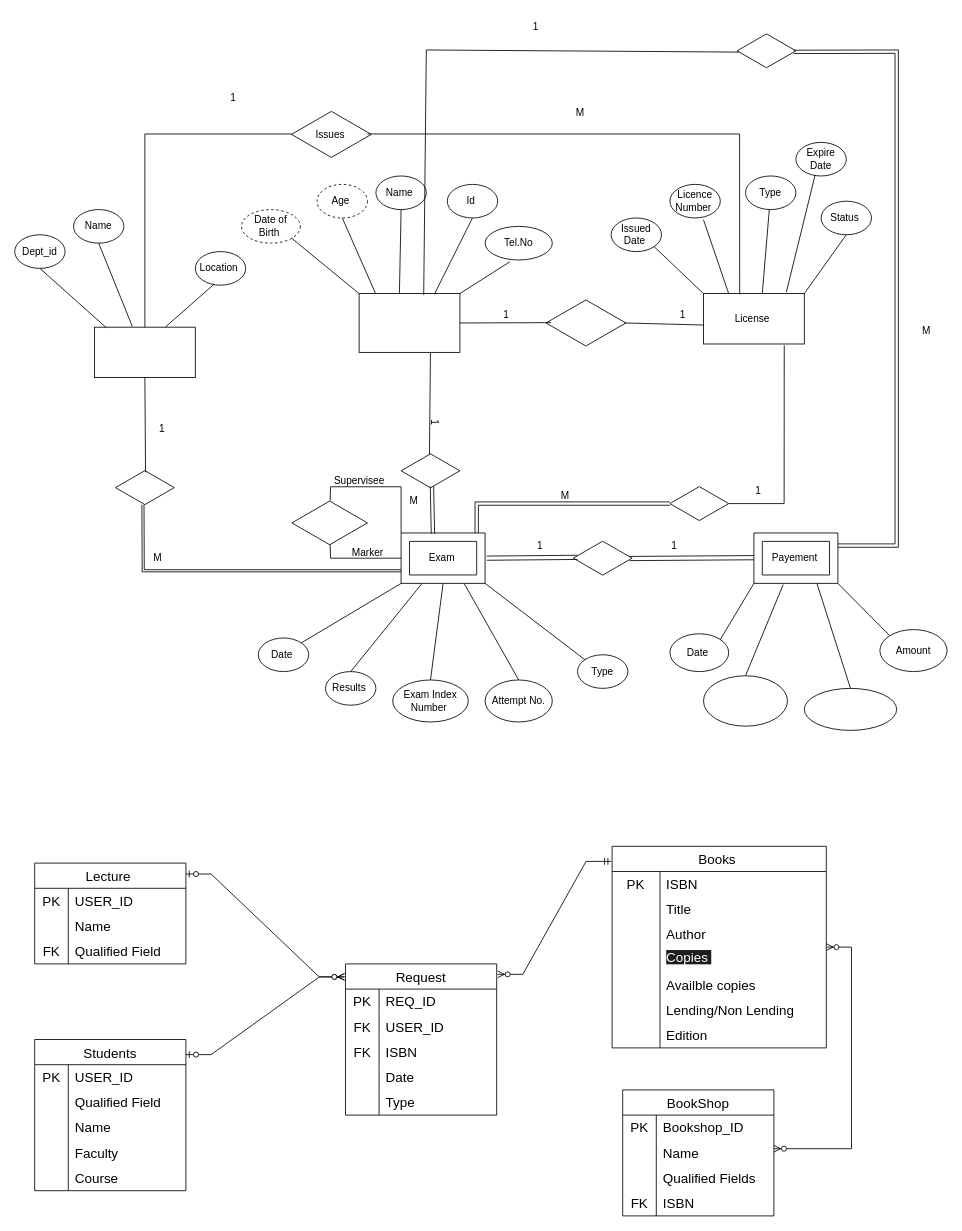
This 962x1231 diagram has some shape labels left out. The centre of each missing label's shape, as x and y in pixels:
"Conducts" goes at point (144, 487).
"Department Branch" goes at point (144, 352).
"Examines" goes at point (329, 522).
"Generates" goes at point (699, 503).
"Holds" goes at point (585, 322).
"pay" goes at point (766, 50).
"Payment ID" goes at point (850, 709).
"Payment Type" goes at point (745, 700).
"Person" goes at point (409, 322).
"Requires" goes at point (602, 558).
"takes" goes at point (430, 470).
